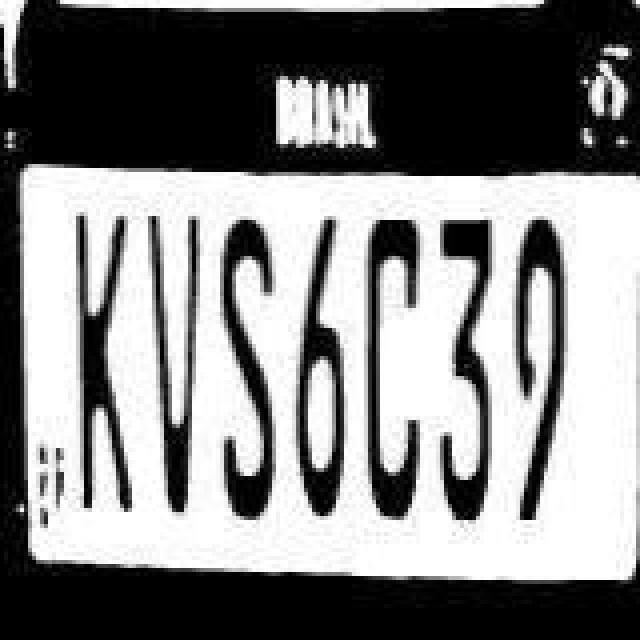3: (432, 212, 500, 524)
6: (278, 214, 350, 522)
9: (500, 206, 568, 514)
C: (354, 218, 418, 518)
K: (68, 214, 144, 522)
S: (206, 212, 278, 516)
V: (140, 212, 200, 508)
